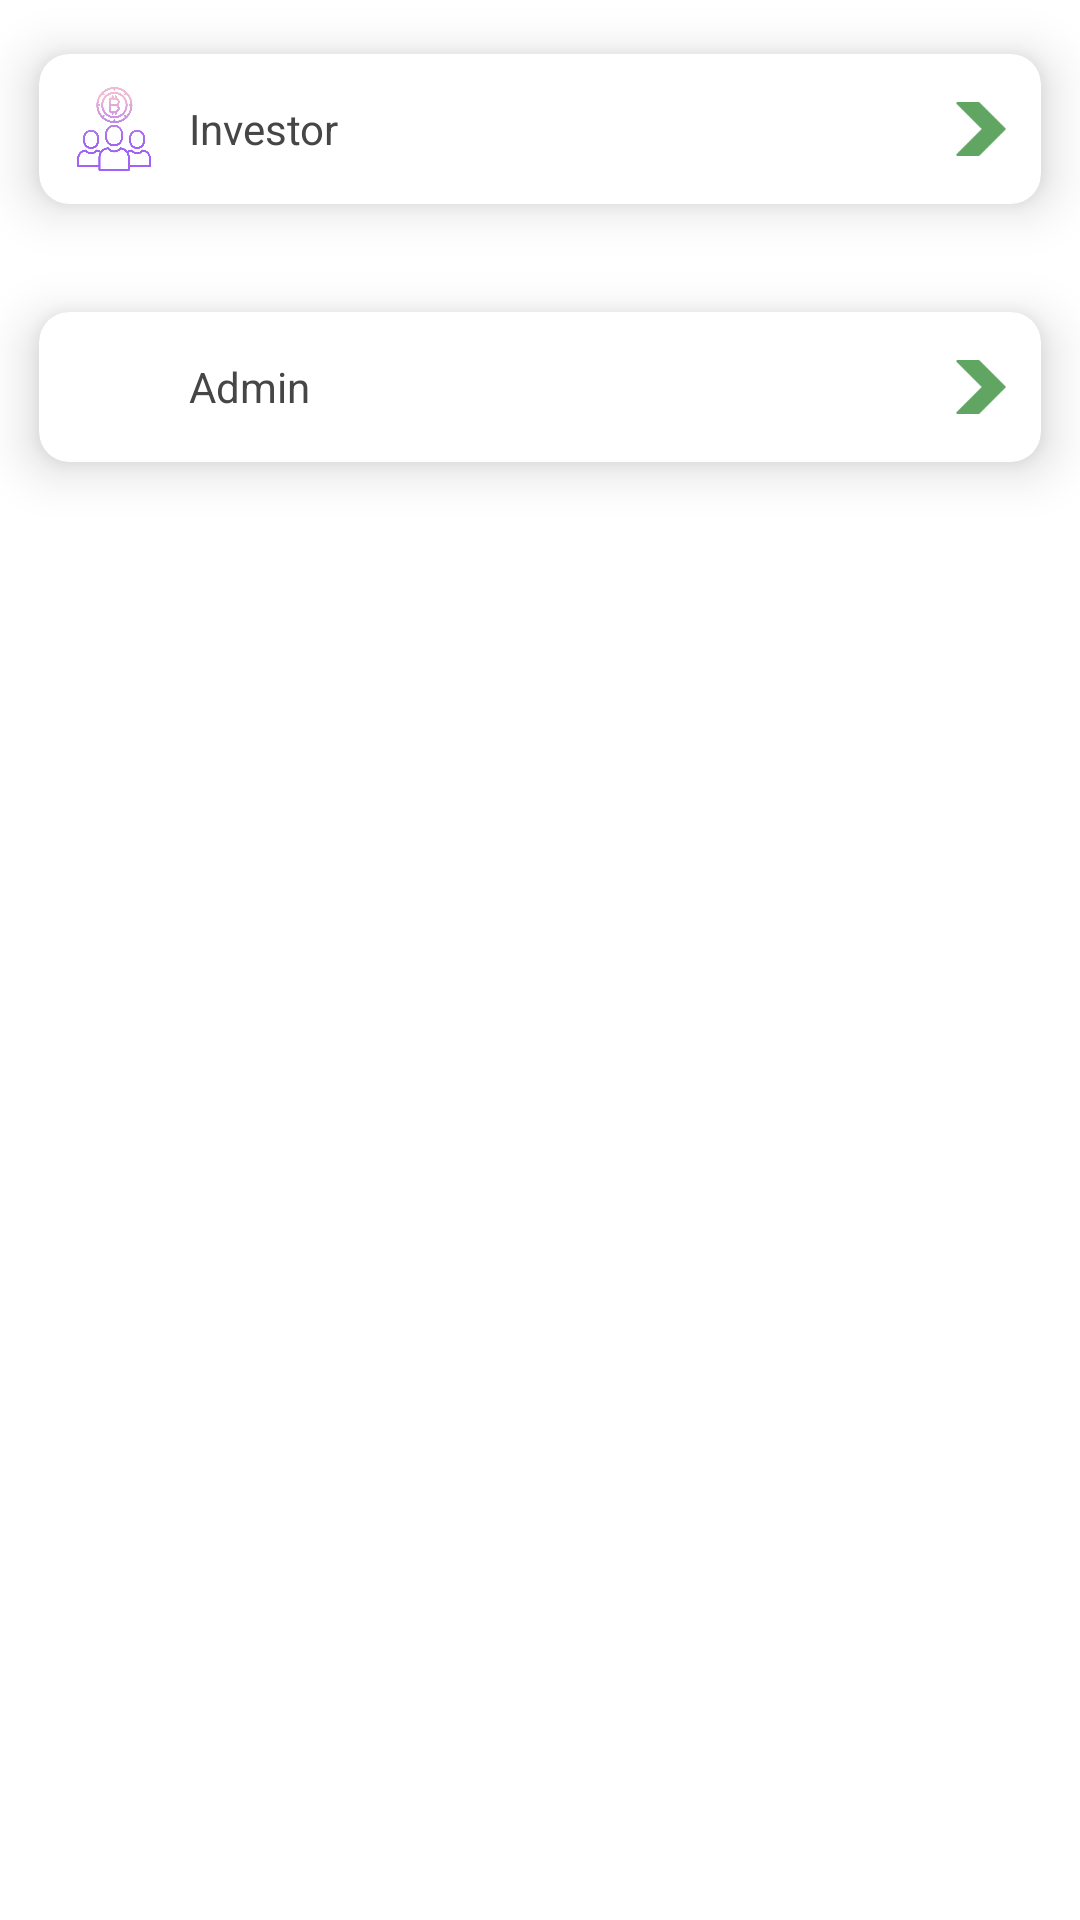

Where icons sit on this 1080px x 1920px app screen, as (x1, y1, x2, y2):
arrow right: (956, 102, 1006, 156), (956, 360, 1006, 414)
